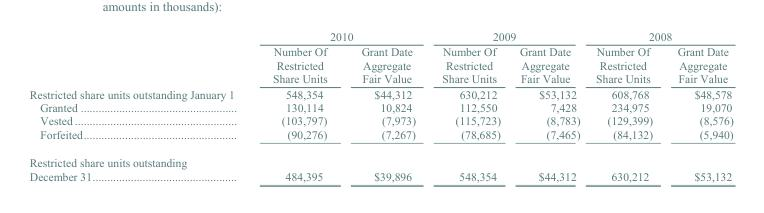table: (28, 29, 732, 182)
table column: (28, 29, 252, 182), (252, 29, 343, 182), (343, 29, 428, 182), (428, 29, 509, 182), (509, 29, 587, 182), (587, 29, 664, 182), (664, 29, 732, 182)
table column header: (28, 29, 732, 85)
table row: (28, 43, 732, 85), (28, 148, 732, 182), (28, 127, 732, 148), (28, 85, 732, 100), (28, 29, 732, 43), (28, 113, 732, 127), (28, 100, 732, 113)
table spanning cell: (252, 29, 428, 43), (428, 29, 587, 43), (587, 29, 732, 43)
